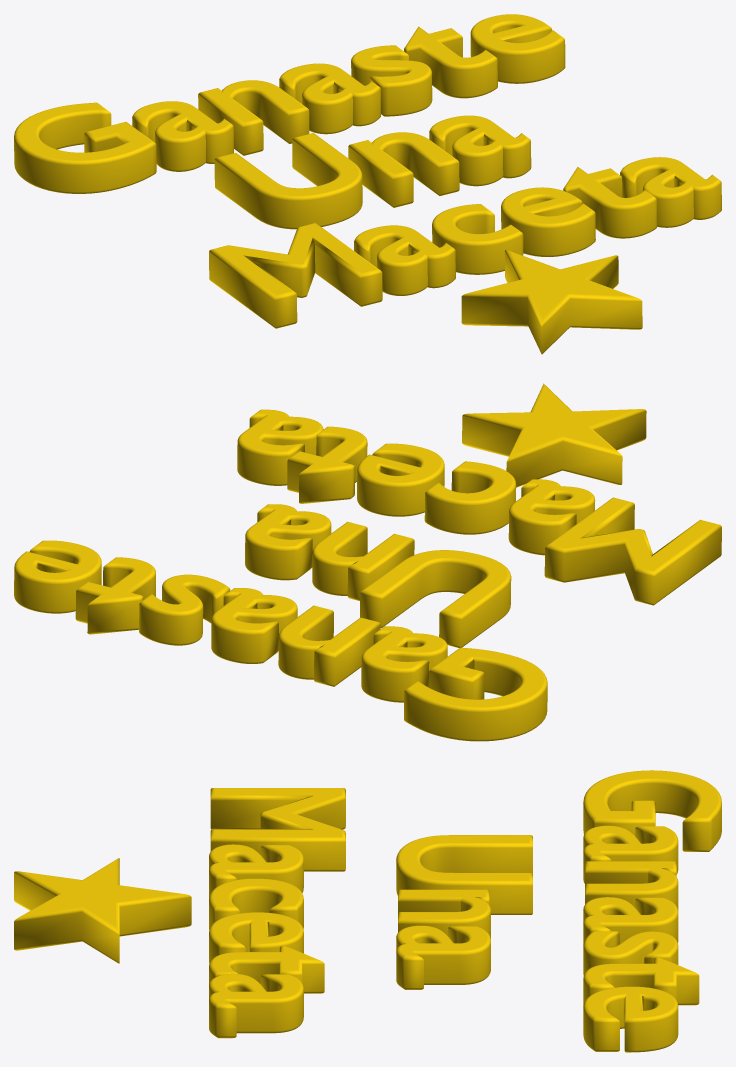
The model's file is maceta.glb.
The picture shows the model from 3 angles, top to bottom: view 1: azimuth 30°, elevation 25°; view 2: azimuth 150°, elevation 25°; view 3: azimuth 270°, elevation 25°; orthographic projection. The views are drawn at different scales.
Parts seen in each view (by area): view 1: GraciasPorParticipar; view 2: GraciasPorParticipar; view 3: GraciasPorParticipar.
Part boxes in pixels (x1,y1,x2,y2): GraciasPorParticipar: (14,14,721,354); GraciasPorParticipar: (14,383,721,741); GraciasPorParticipar: (14,770,721,1052).
Bounding box in the file's own units: 3.25 × 0.2381 × 3.78.
